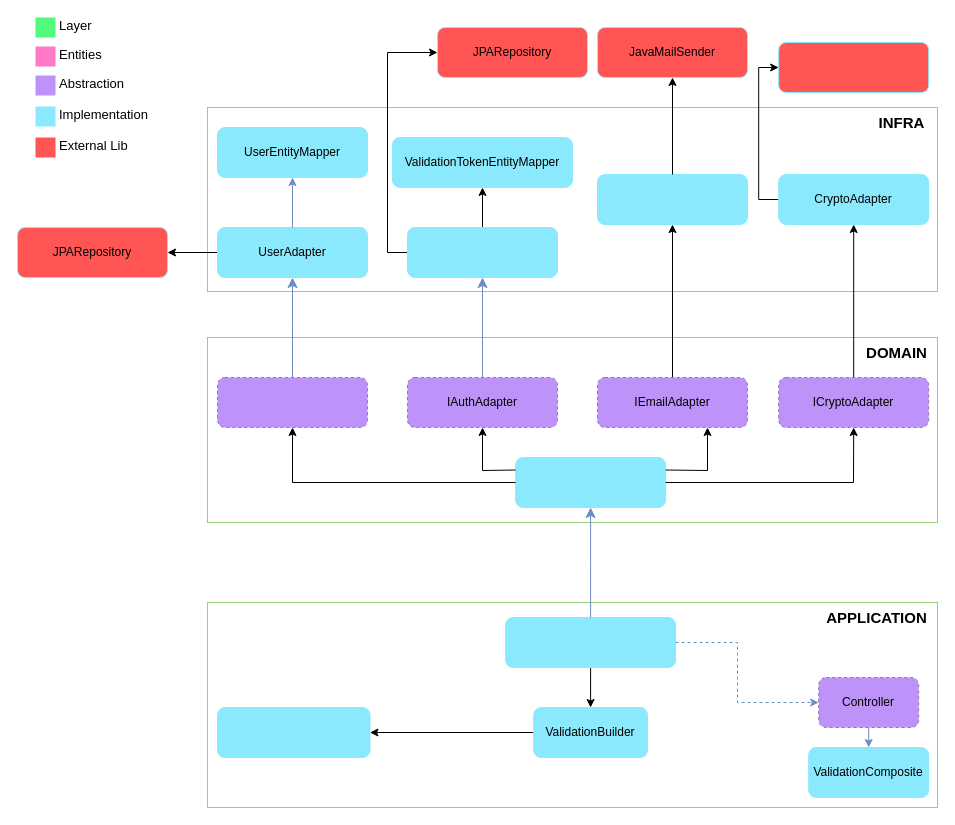
Some shapes in this 955 by 825 pixel diagram are drawn without their labels. Here are the shapes that lost their labels. From the top down, the box of each, then its label:
(778, 42, 929, 92): DigestUtils
(596, 174, 748, 224): EmailAdapter
(406, 226, 558, 278): AuthAdapter
(216, 376, 368, 428): IUserAdapter
(515, 456, 666, 508): PasswordRecovery
(505, 616, 676, 668): PasswordRecoveryController
(216, 706, 370, 758): RequiredFieldValidator
